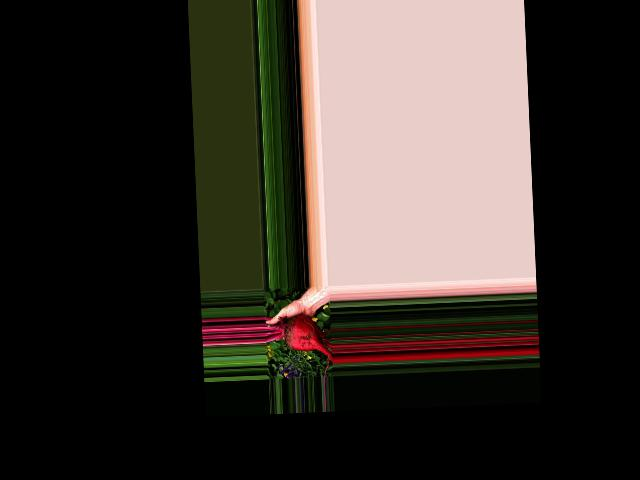beet: (264, 313, 333, 365)
